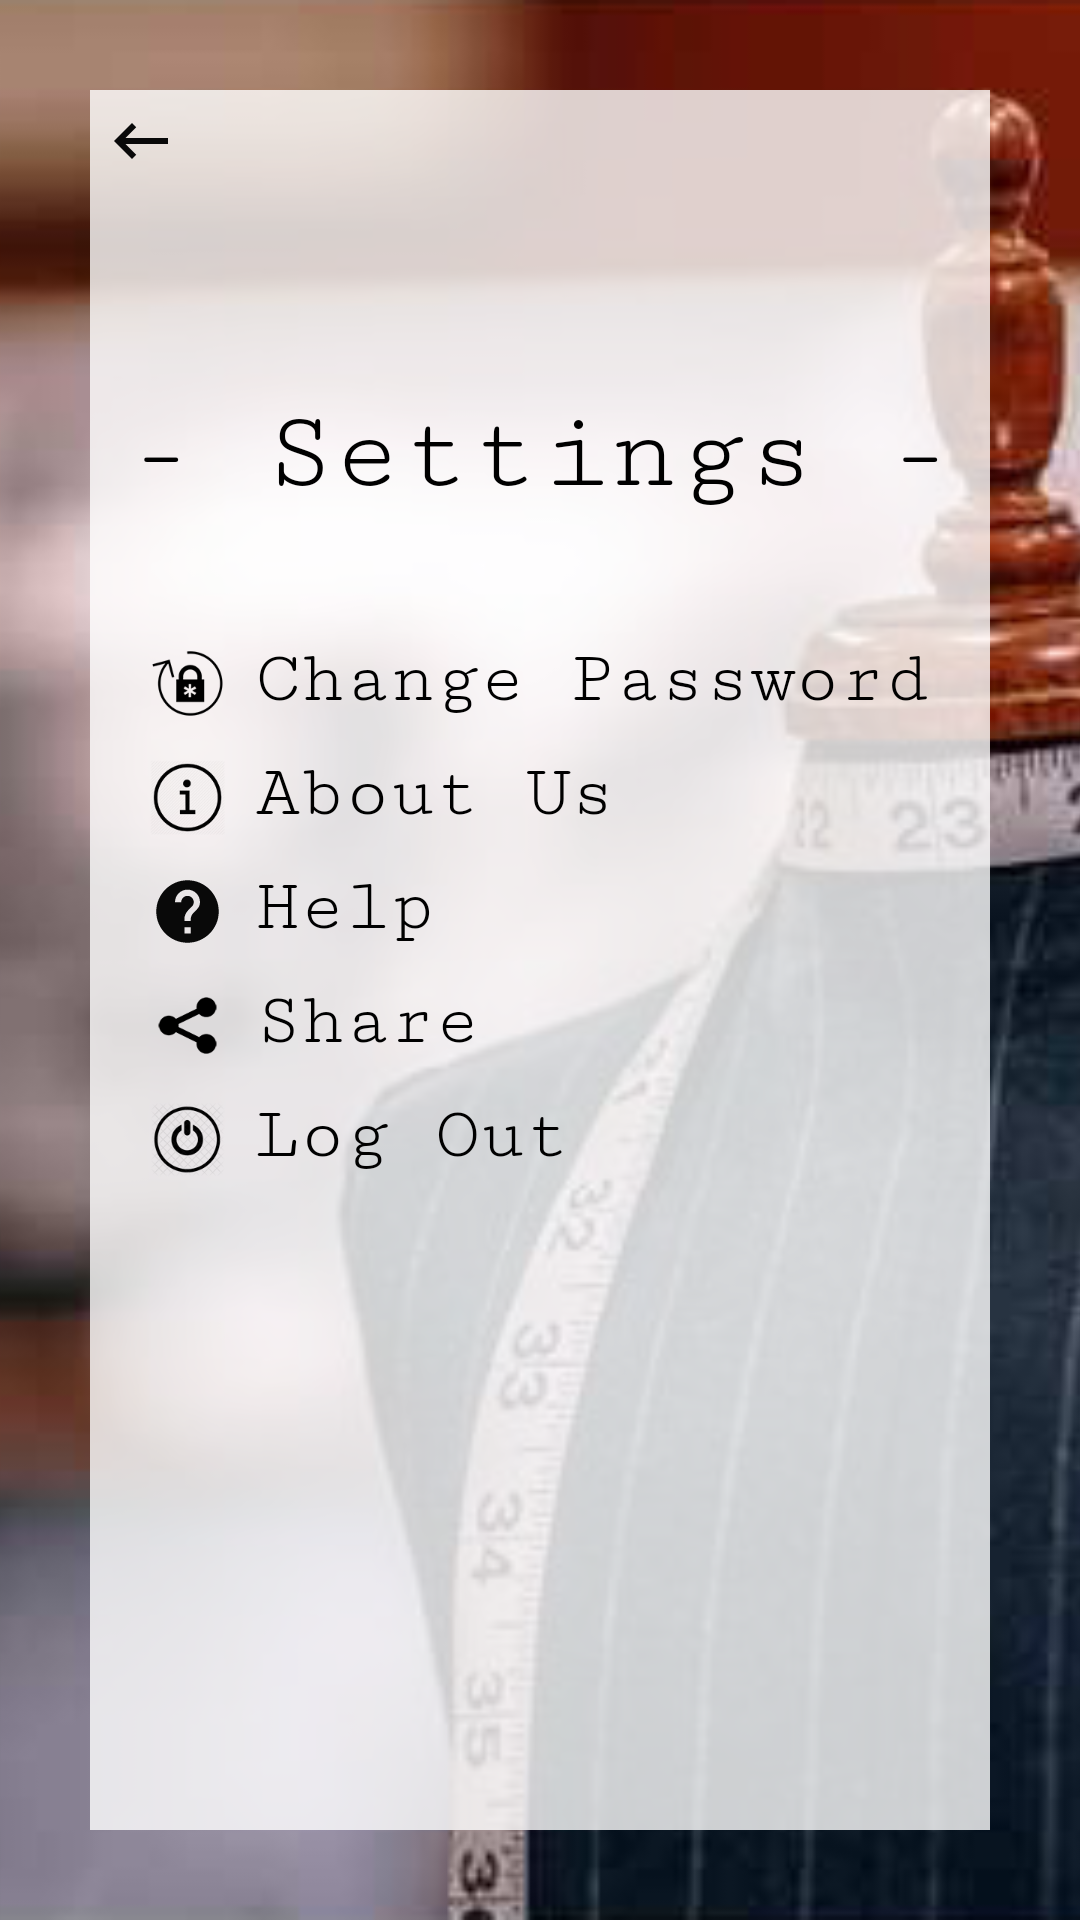

Icon click points for this 1080px x 1920px phone screenshot, format [x,y]:
back arrow: [141,141]
